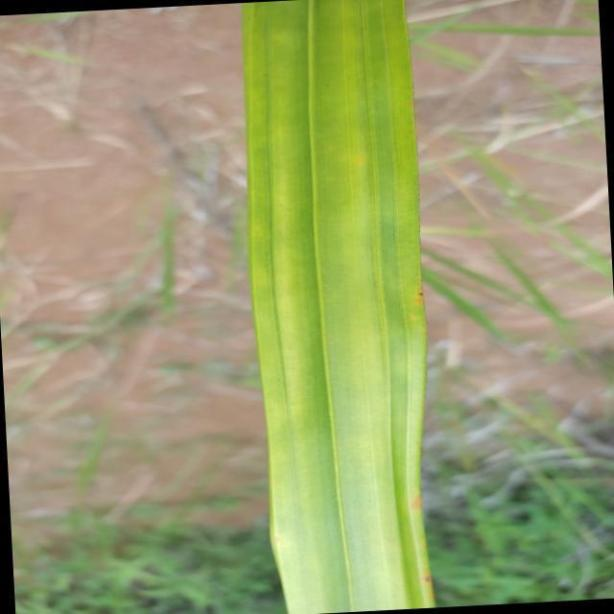nitrogen: (242, 1, 433, 614)
